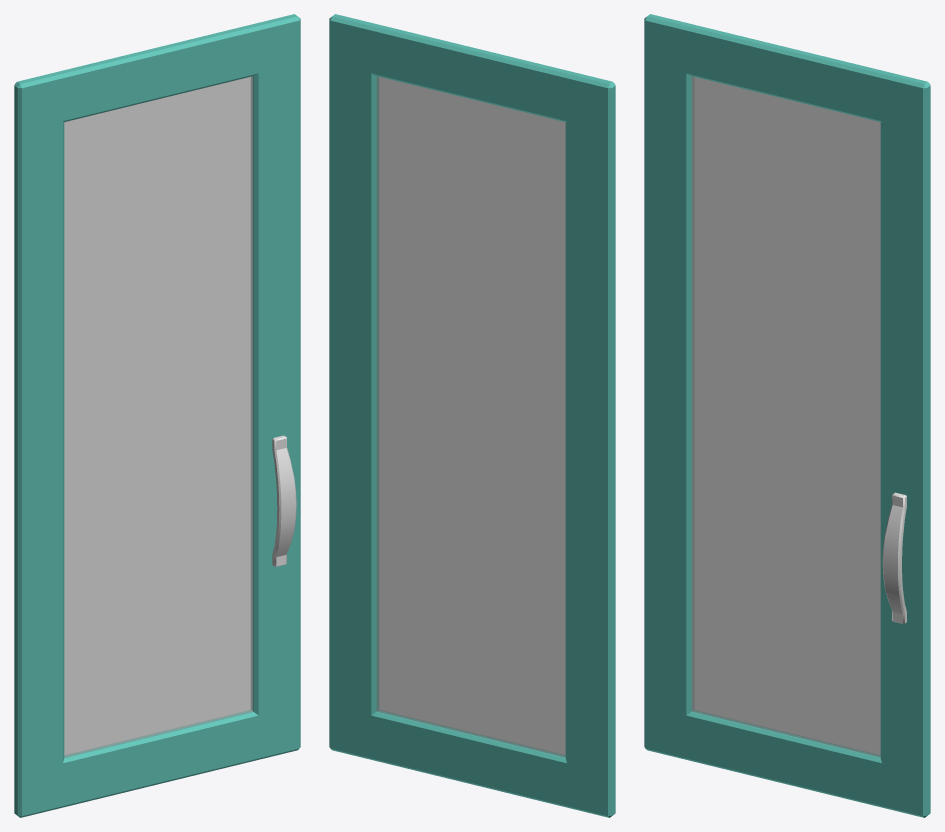
Rendered from Bookcase_door.002.fbx.
The picture shows the model from 3 angles, left to right: view 1: azimuth 30°, elevation 25°; view 2: azimuth 150°, elevation 25°; view 3: azimuth 330°, elevation 25°; orthographic projection.
Parts seen in each view (by area): view 1: Bookcase_door.002; view 2: Bookcase_door.002; view 3: Bookcase_door.002.
Part boxes in pixels (x1=…): Bookcase_door.002: x1=14, y1=14, x2=300, y2=817; Bookcase_door.002: x1=329, y1=14, x2=615, y2=817; Bookcase_door.002: x1=644, y1=14, x2=930, y2=817.
Bounding box in the file's own units: 0.4975 × 1.23 × 0.053.
